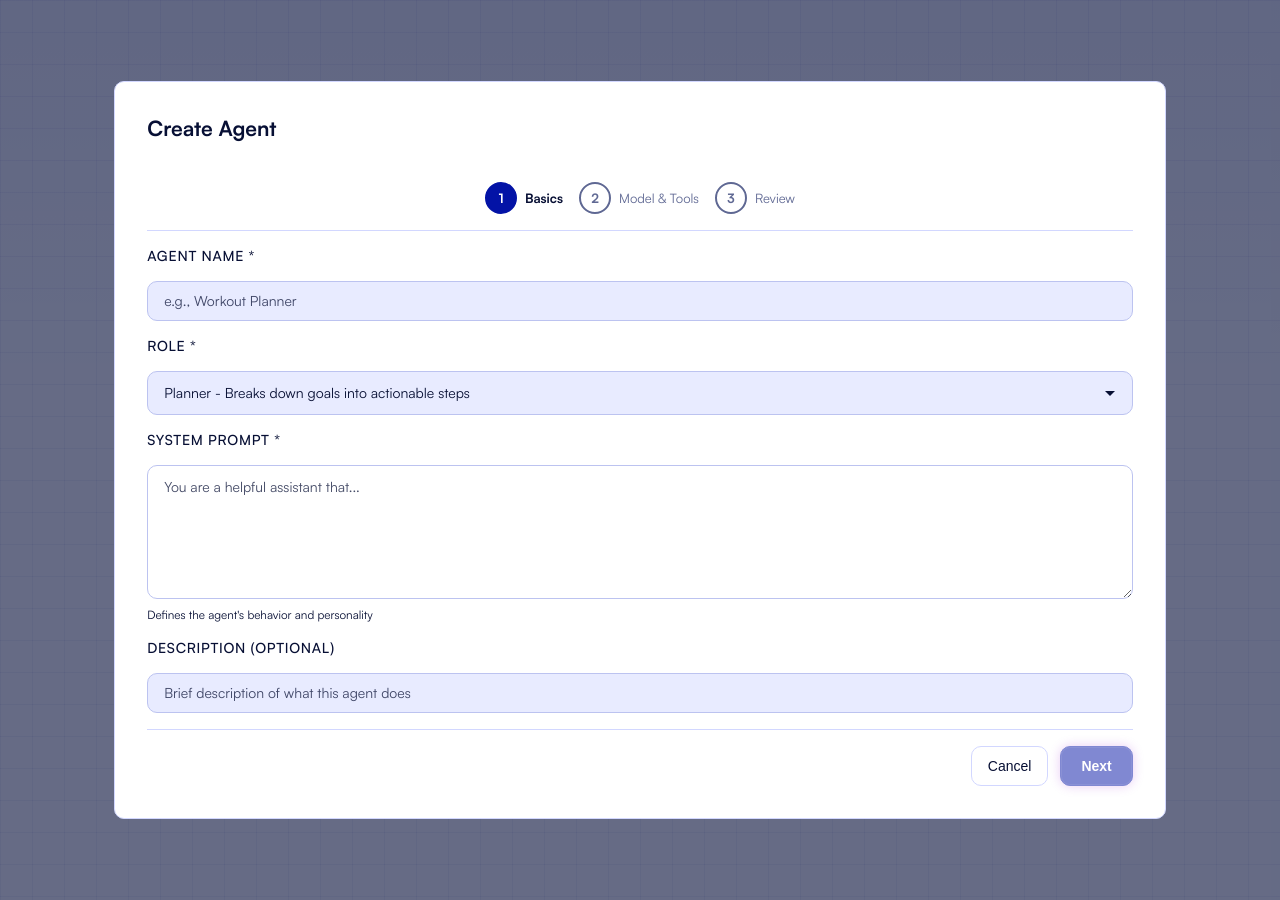
Test: AgentBuilderWizard › step navigation: fill step 1, click Next, step 2 visible
// Fill step 1 required fields
In the field with placeholder "e.g., Workout Planner": [640, 301] box x1=147 y1=281 x2=1133 y2=321, type "My Agent"
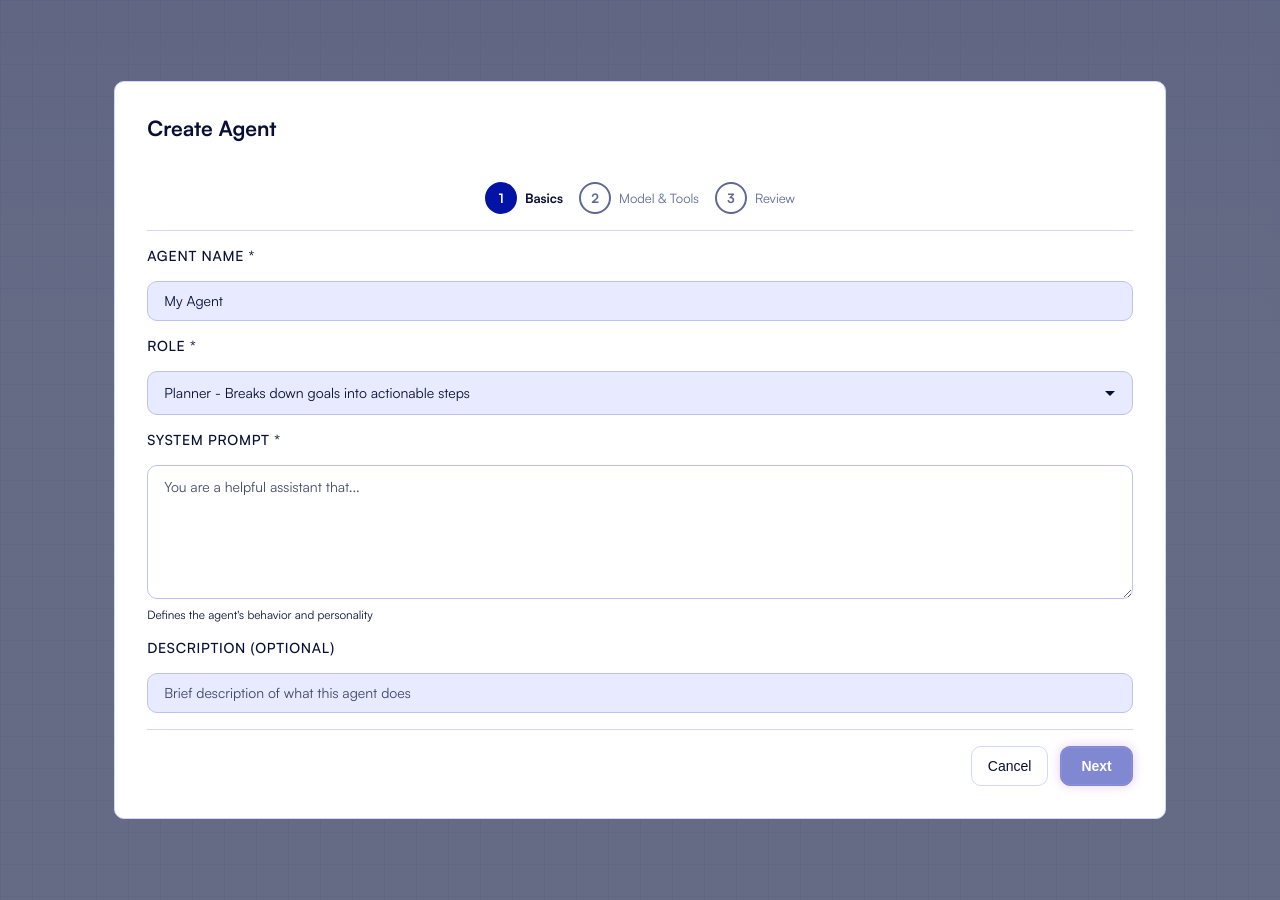
In the text box with placeholder "You are a helpful assistant that...": [640, 532] box x1=147 y1=465 x2=1133 y2=599, type "You are a test agent."
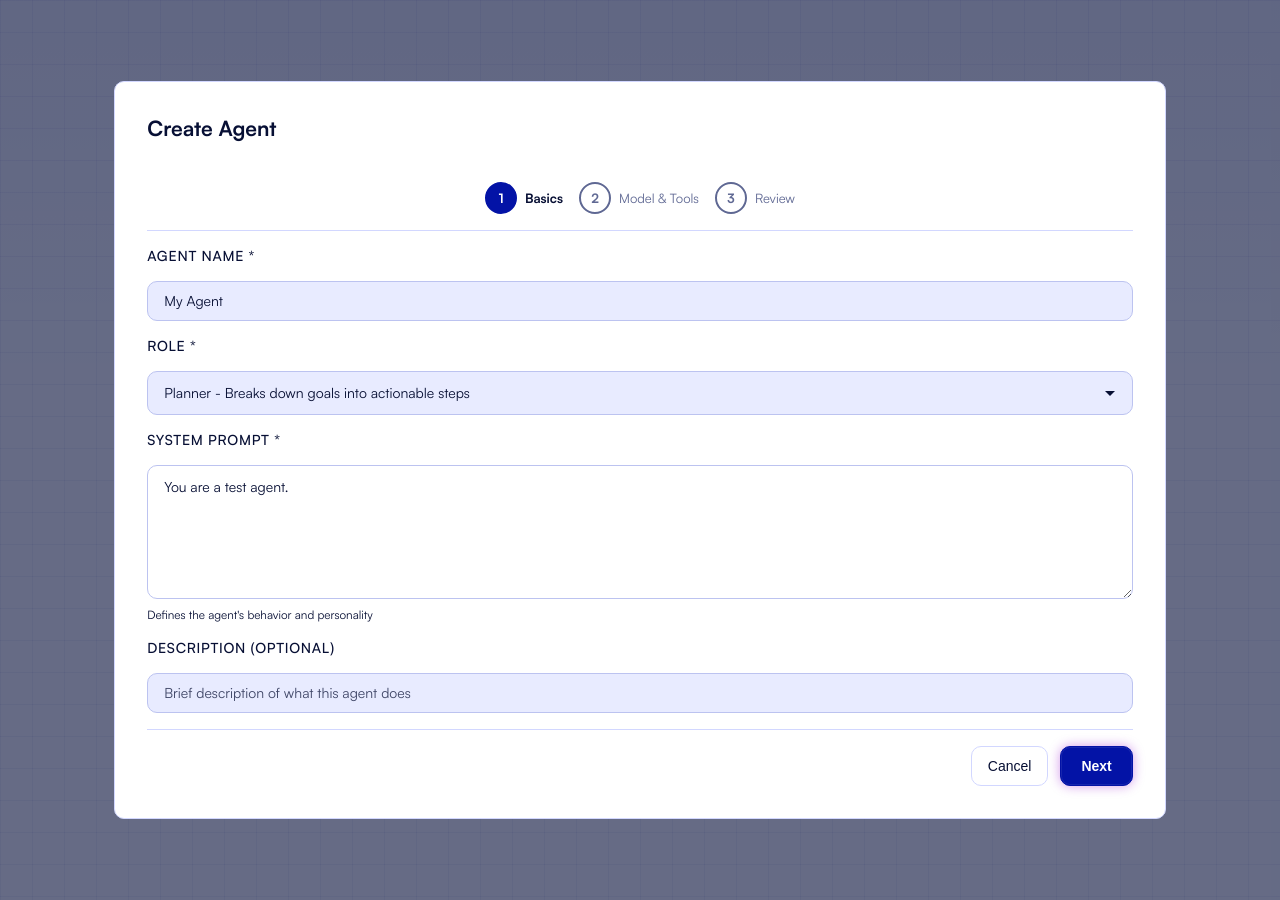
Result: the button "Next" is enabled
Click the button "Next": [1097, 766] box x1=1060 y1=746 x2=1133 y2=786
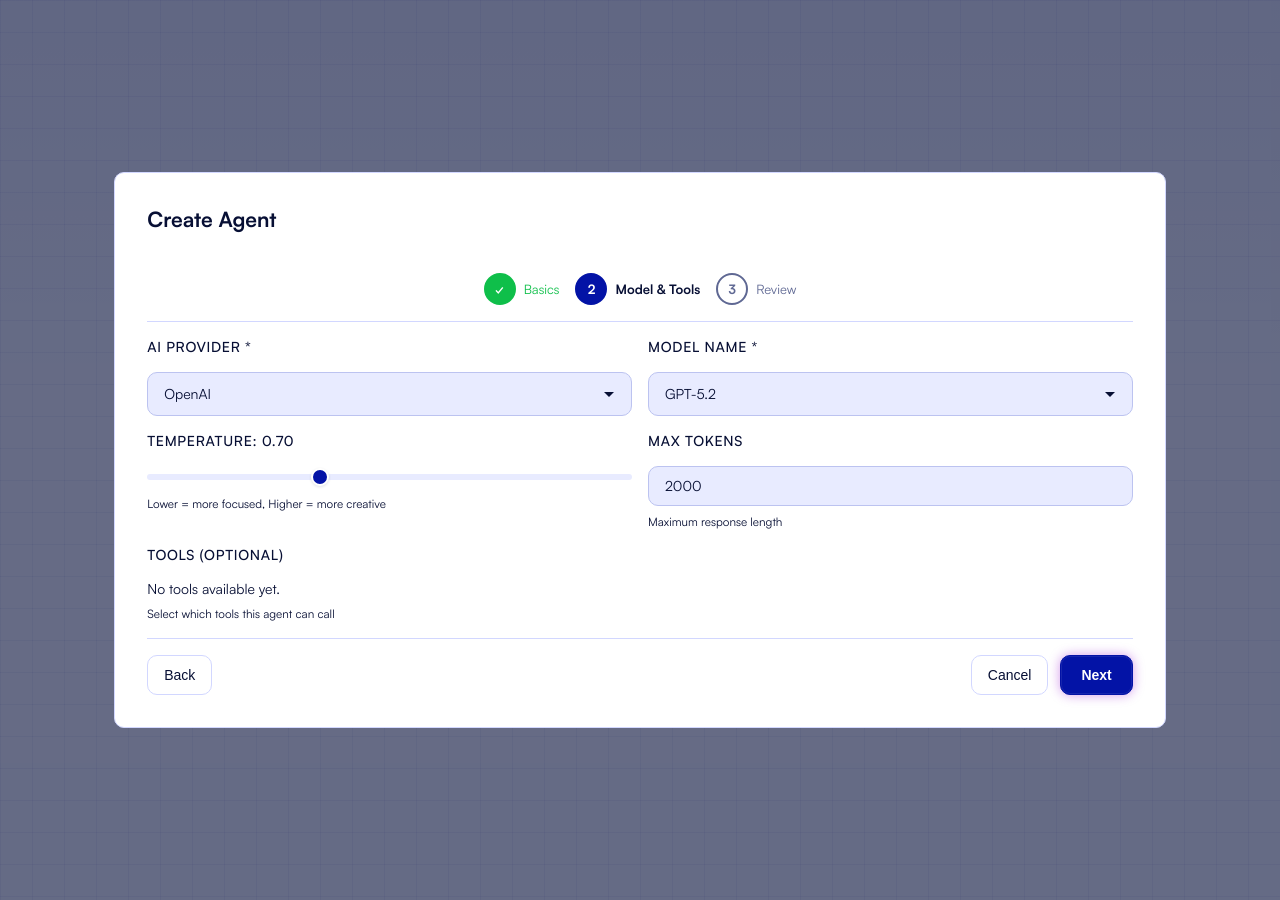
Result: the text "Temperature: 0.70" is shown at x1=147 y1=432 x2=294 y2=449
